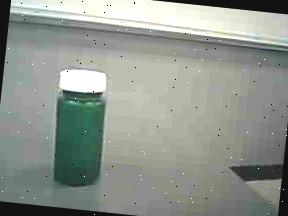Bottle C: (33, 58, 132, 197)
